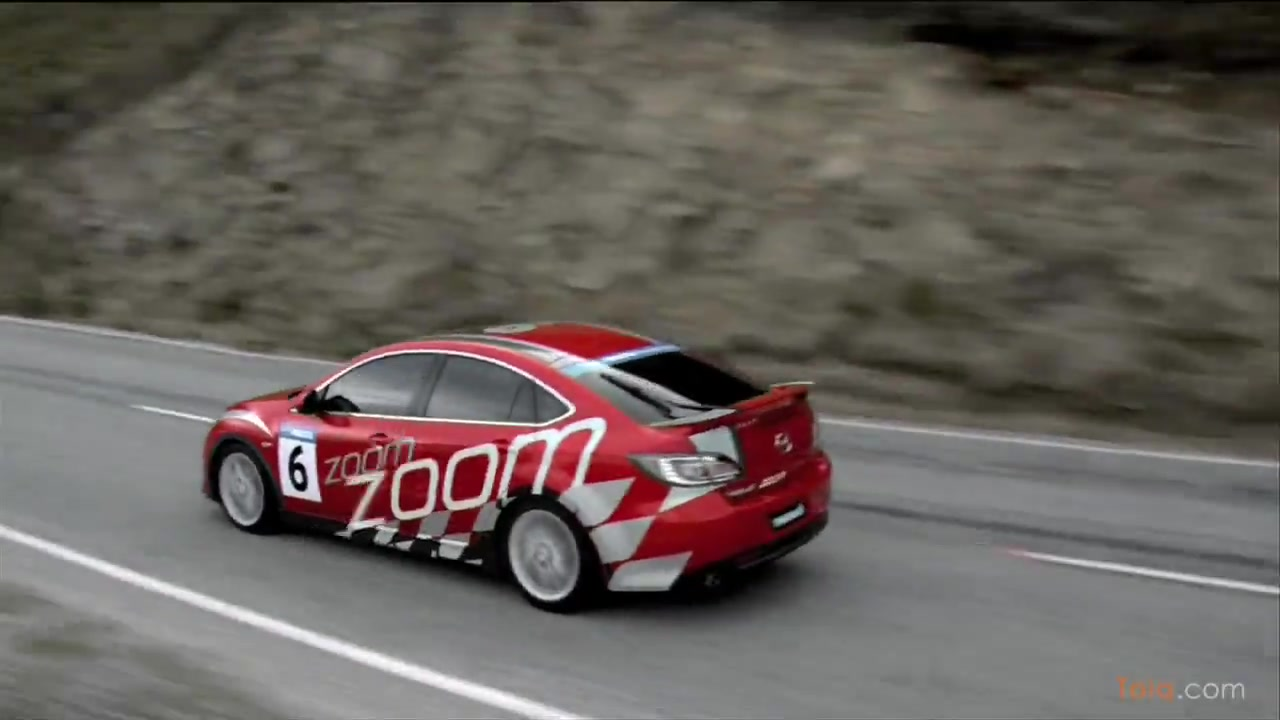car: (202, 321, 838, 618)
